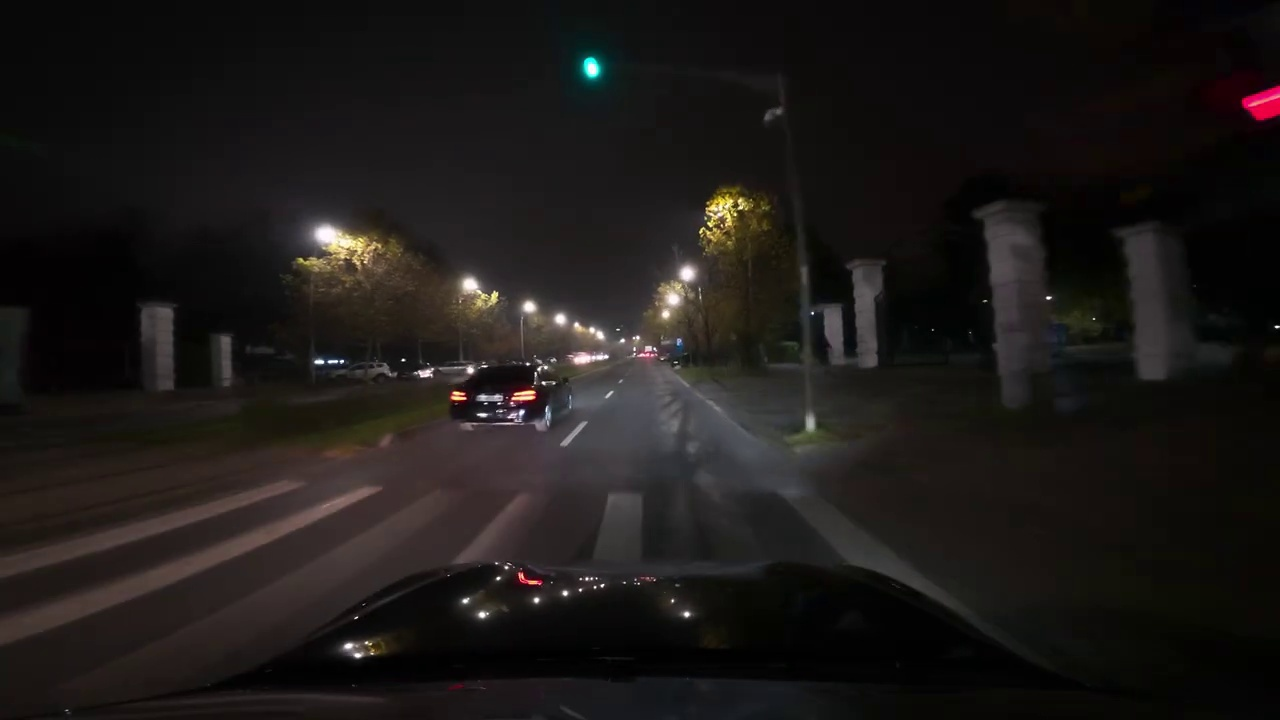acesa: (458, 274, 491, 307)
